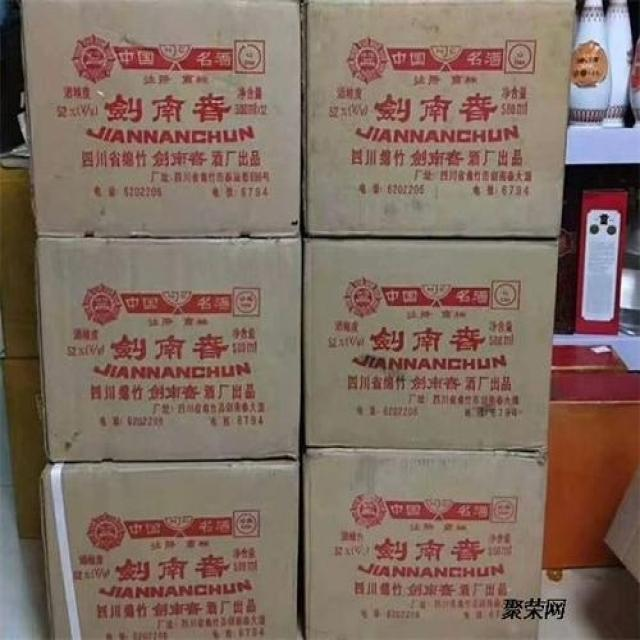box: (20, 0, 300, 236), (300, 0, 576, 236), (35, 237, 301, 462), (303, 238, 559, 451), (302, 448, 549, 638), (40, 460, 299, 639)
